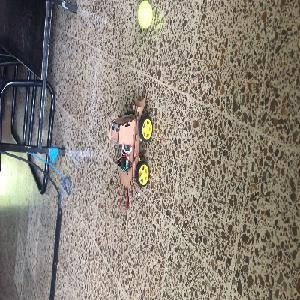Ball: (137, 1, 153, 28)
Robot: (107, 93, 152, 188)
